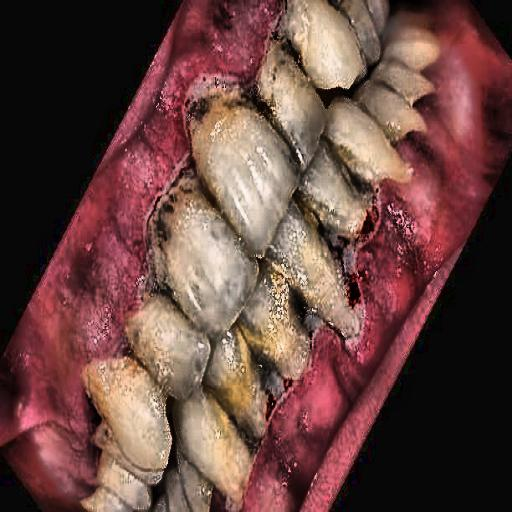Calculus: (56, 290, 313, 512), (176, 13, 416, 248), (280, 219, 382, 353), (129, 164, 225, 290)
